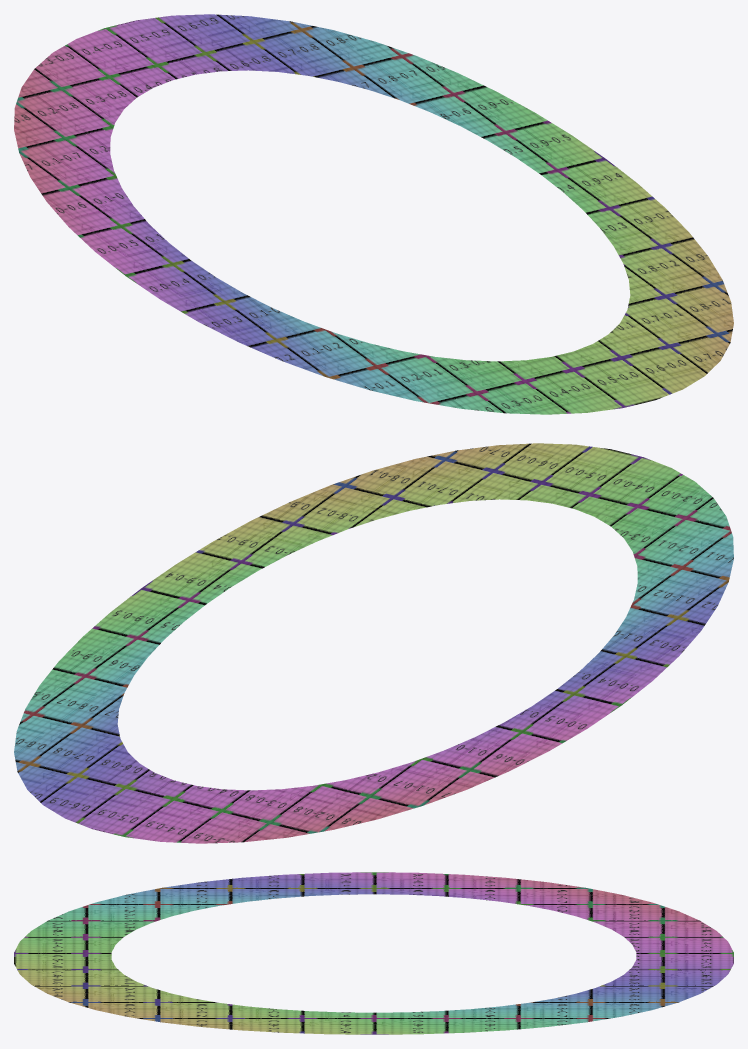
The model's file is portal.FBX.
3 views of the same model, one above another, from view 1: azimuth 30°, elevation 25°; view 2: azimuth 150°, elevation 25°; view 3: azimuth 270°, elevation 25° (orthographic). The views are drawn at different scales.
Parts seen in each view (by area): view 1: Plane001; view 2: Plane001; view 3: Plane001.
Boxes of the visible parts, x1=… form: Plane001: x1=14, y1=14, x2=733, y2=414; Plane001: x1=14, y1=443, x2=733, y2=843; Plane001: x1=14, y1=872, x2=733, y2=1034.
Bounding box in the file's own units: 246 × 2.91e-05 × 459.
Materials: 4 (4 with a texture image).
